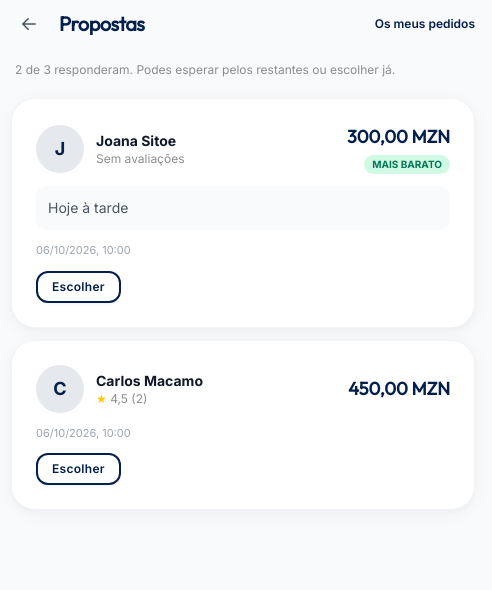
Test case: RequestProposals — escolher › "Cancelar" desiste da escolha sem escolher ninguém
Click the button "Escolher" below "Hoje à tarde" at (78, 286), box 36,270 -> 121,302
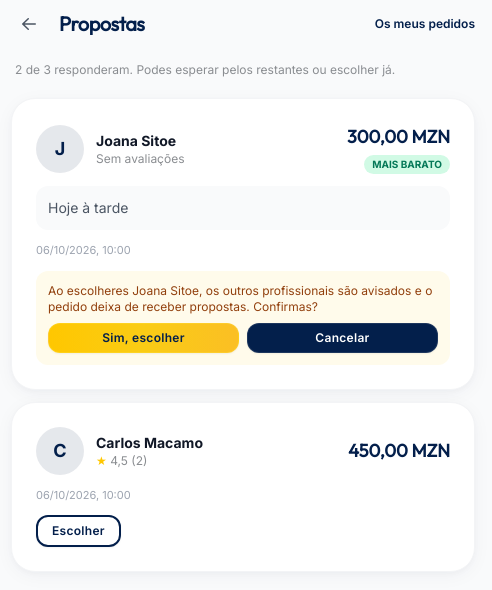
Click the button "Cancelar" at (342, 338), box 247,322 -> 438,352
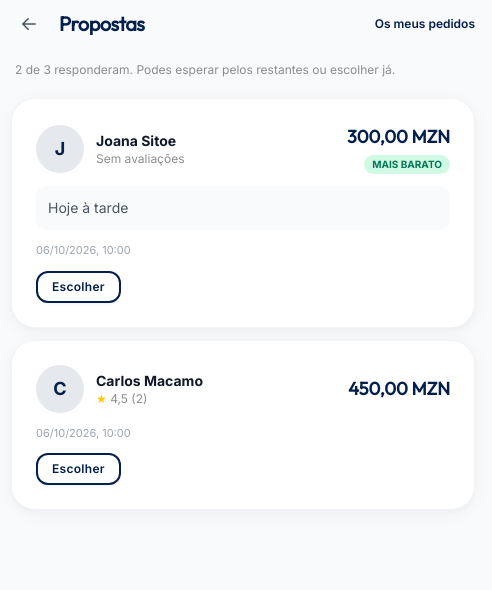
Result: the text "os outros profissionais são avisados" is gone
Result: the number of buttons "Escolher" is 2 at 36,270 -> 121,302; 36,453 -> 121,485
